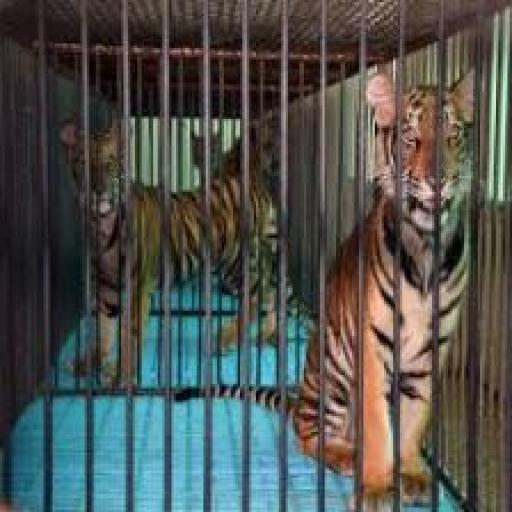Tiger: (18, 11, 497, 503)
